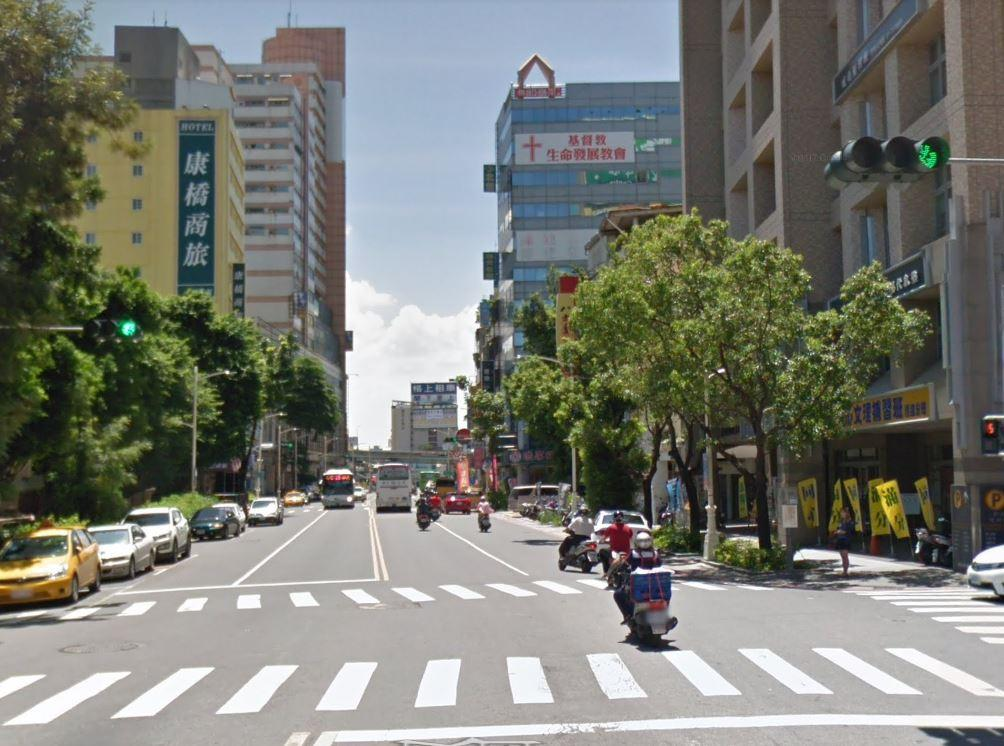green_traffic_light: (822, 135, 949, 186), (81, 315, 144, 341)
